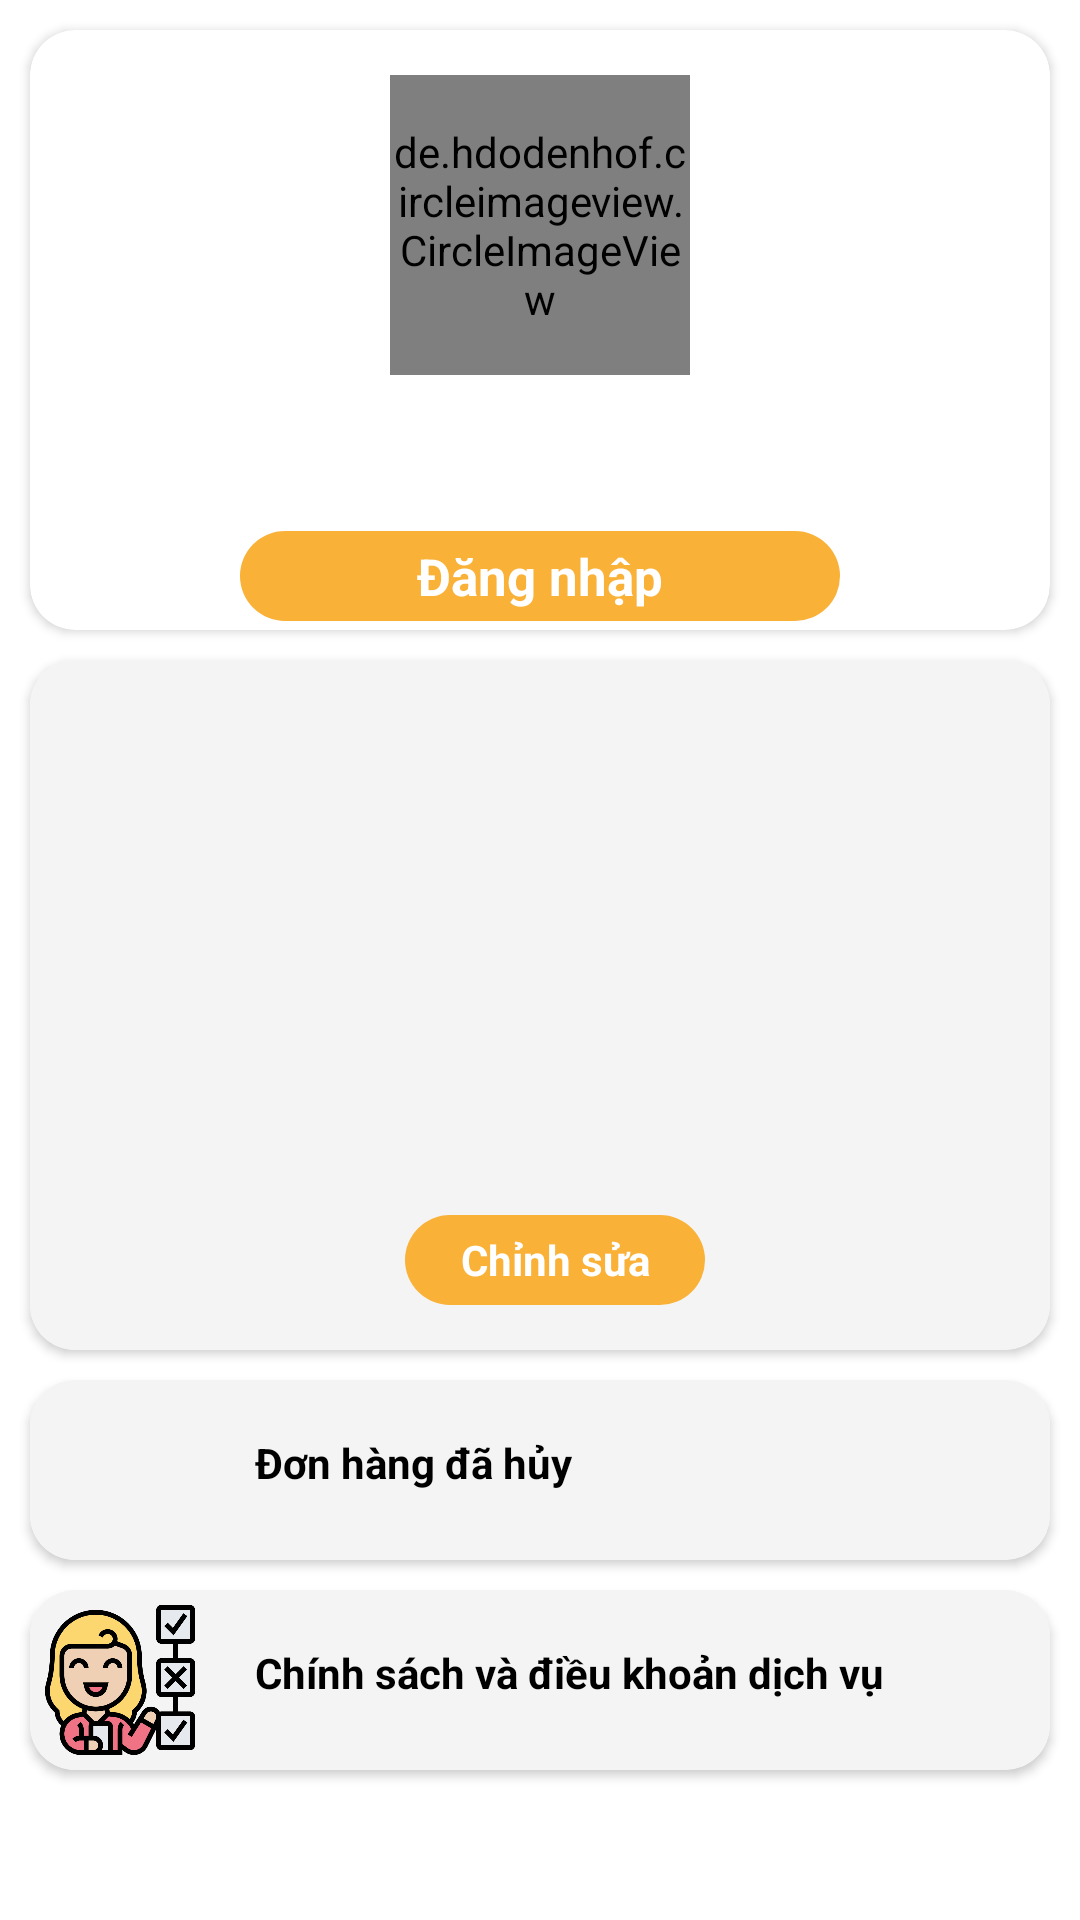

Icons on this 1080 x 1920 Android screen, each with its box as (x1, y1, x2, y2):
rules: (45, 1605, 195, 1755)
